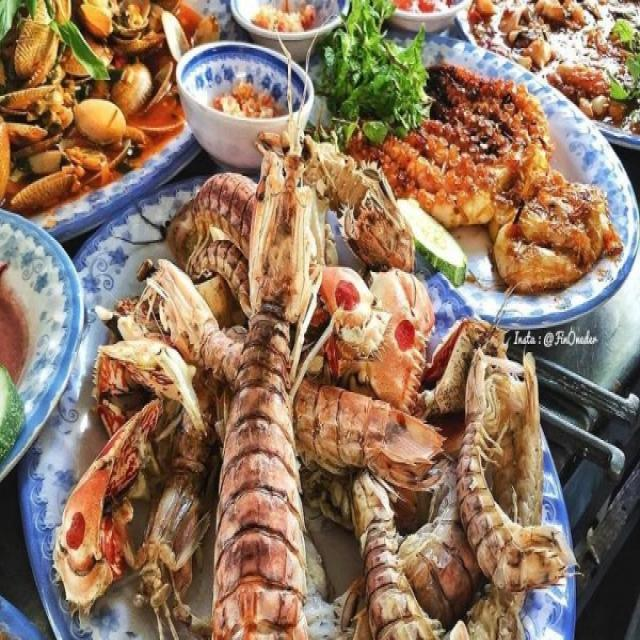bach tuoc nuong: (334, 41, 620, 282)
so hap: (0, 0, 189, 125)
tom tit hap: (65, 144, 539, 638)
